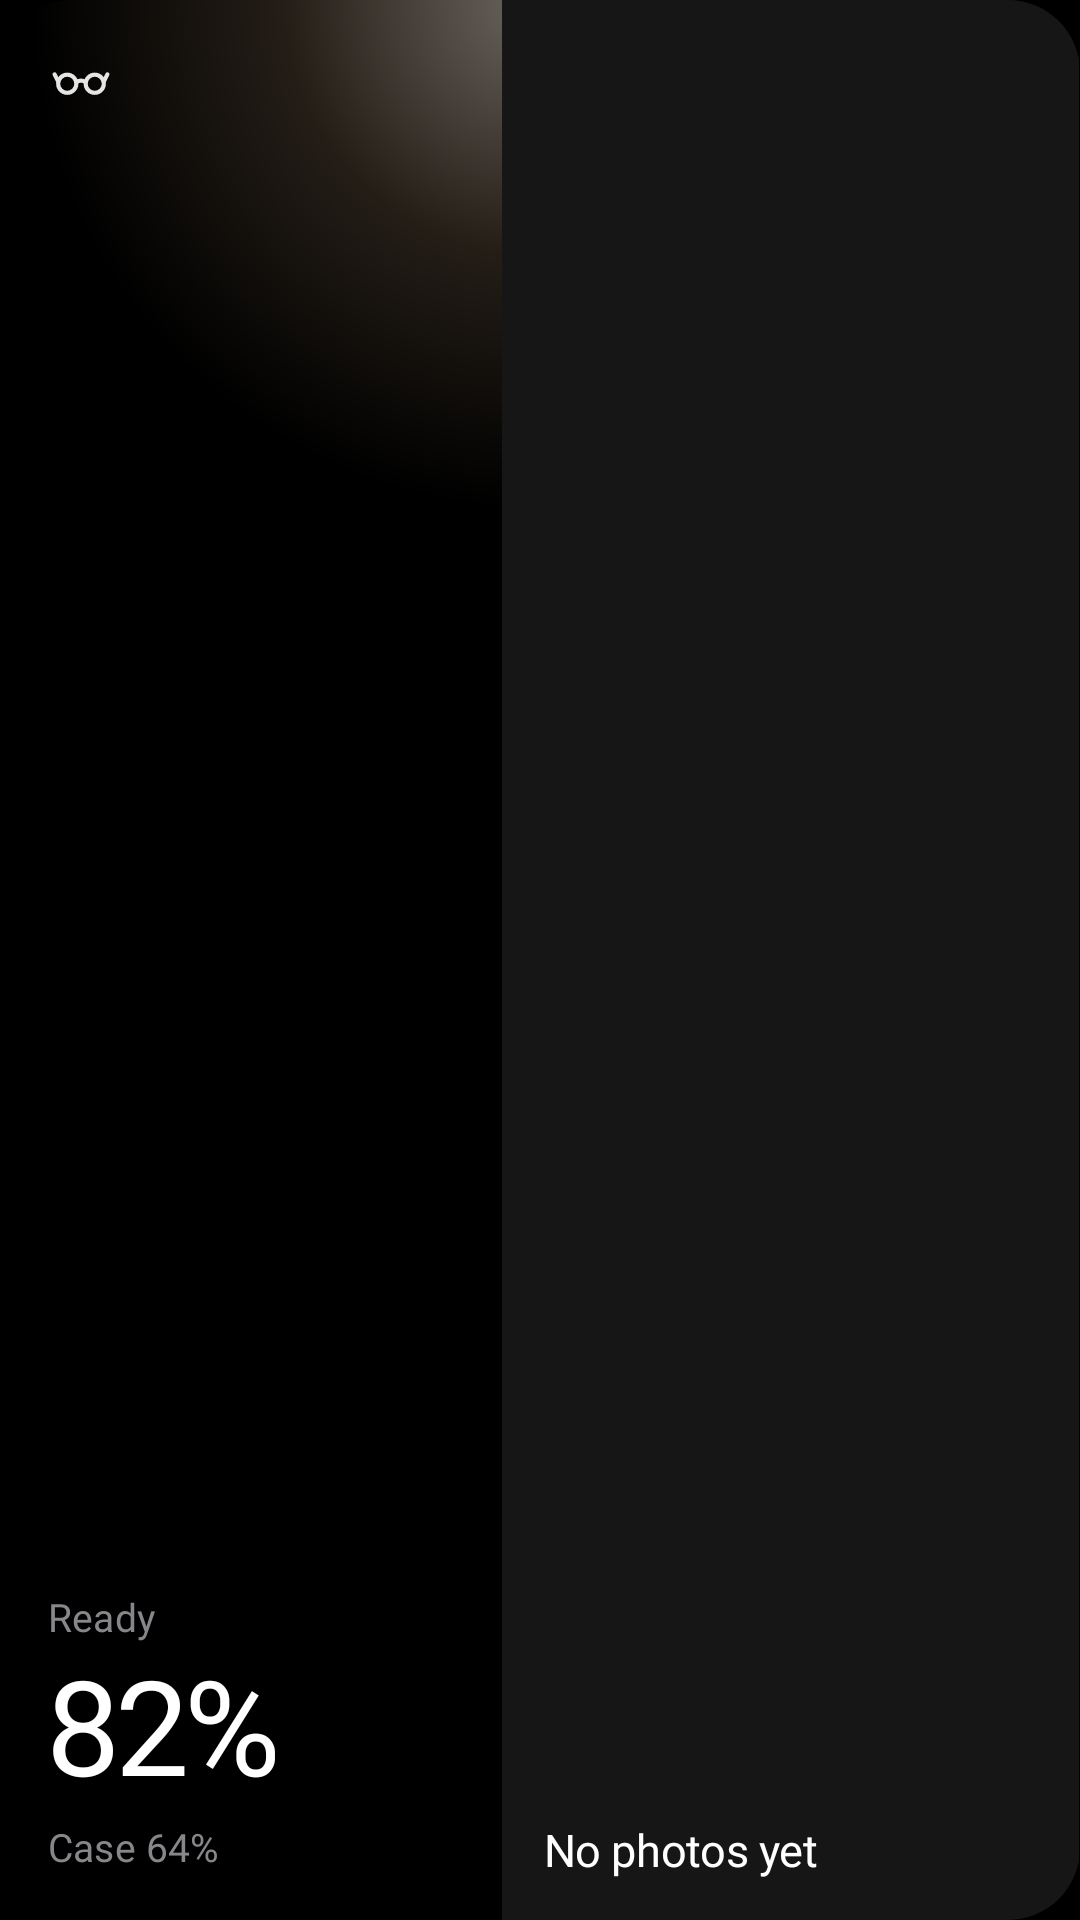

Where to tap for icons on this 1080px×1920px app screen, as (x=x, y=y):
widget glasses: (x=81, y=83)
